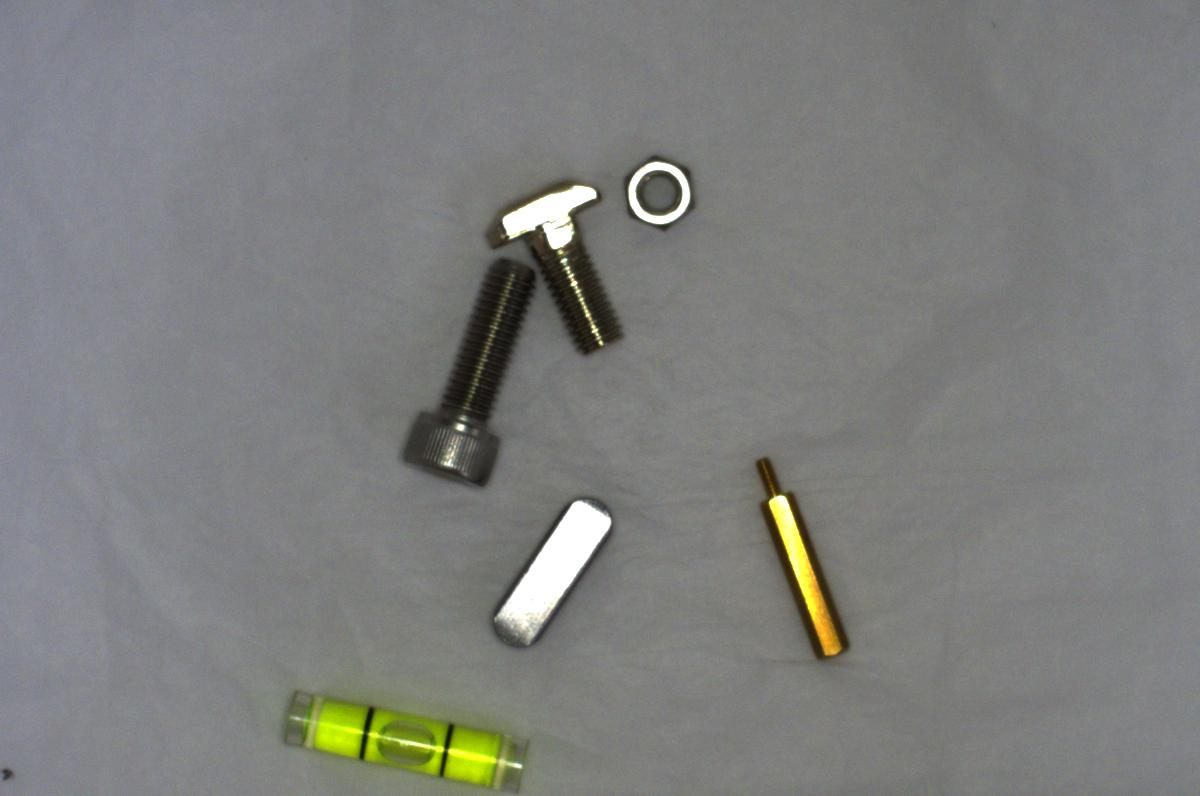Hexagon nut: (610, 148, 707, 240)
Hexagon pillar: (747, 444, 864, 671)
Hexagon screw: (382, 253, 546, 495)
Horizontal bubble: (267, 674, 541, 795)
Keybar: (475, 486, 634, 660)
T-shaped screw: (479, 171, 634, 365)
